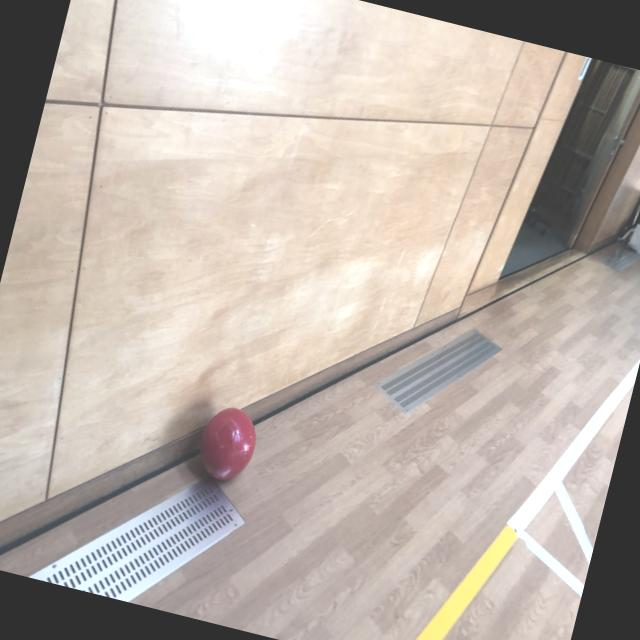red_ball: (194, 400, 262, 488)
